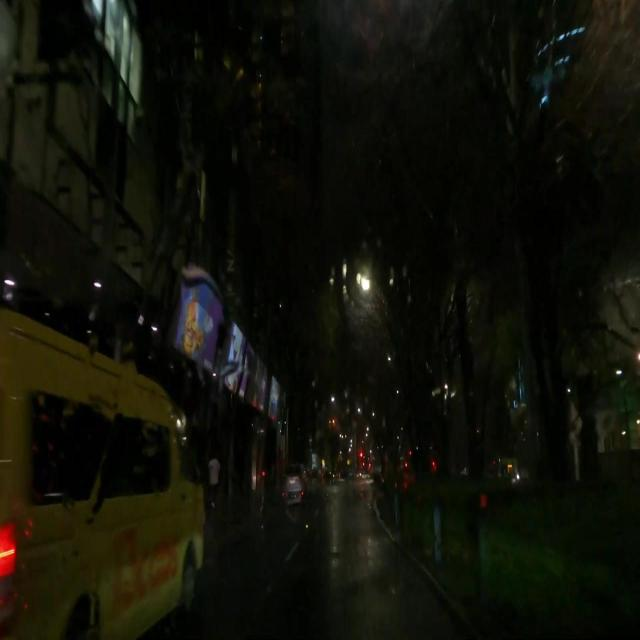Car: (3, 313, 204, 627)
